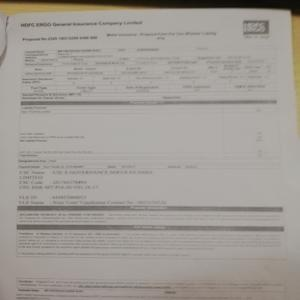image: (241, 16, 270, 34)
table: (19, 100, 280, 168), (22, 46, 282, 98)
text: (17, 229, 288, 255), (17, 168, 174, 208), (18, 18, 147, 29)
